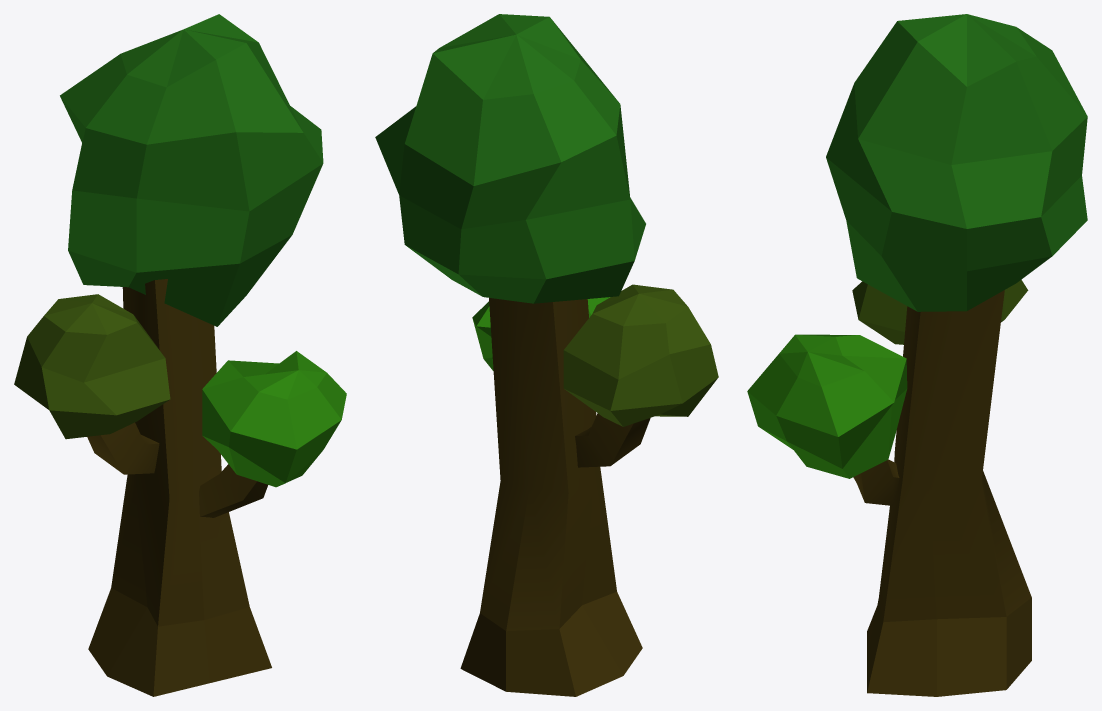
Rendered from Tree.obj.
3 views of the same model, side by side, from view 1: azimuth 30°, elevation 25°; view 2: azimuth 150°, elevation 25°; view 3: azimuth 270°, elevation 25° (orthographic). The views are drawn at different scales.
Parts seen in each view (by area): view 1: pSphere1, pCube1, pSphere2, pSphere3, pCube2, pCube3; view 2: pSphere1, pCube1, pSphere2, pCube2, pSphere3; view 3: pSphere1, pCube1, pSphere3, pSphere2, pCube3.
Part boxes in pixels (x1,y1,x2,y2): pSphere1: (60,14,323,326); pCube1: (88,279,271,696); pSphere2: (14,294,170,439); pSphere3: (202,351,346,487); pCube2: (87,422,159,474); pCube3: (199,464,267,517); pSphere1: (375,14,645,303); pCube1: (460,298,642,696); pSphere2: (563,284,718,426); pCube2: (575,413,650,467); pSphere3: (472,297,610,370); pSphere1: (826,14,1087,311); pCube1: (867,290,1031,696); pSphere3: (747,334,907,478); pSphere2: (852,279,1028,344); pCube3: (853,459,899,505).
Size of the model in its own units: 2.69 by 5.2 by 2.44.
